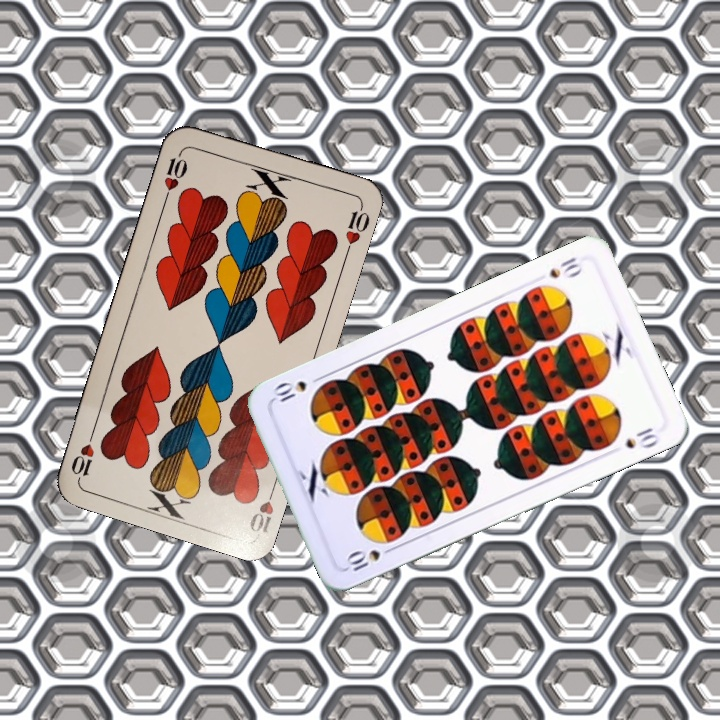H10: (245, 480, 281, 537), (160, 146, 190, 204)
S10: (341, 542, 399, 574), (544, 252, 585, 281)
